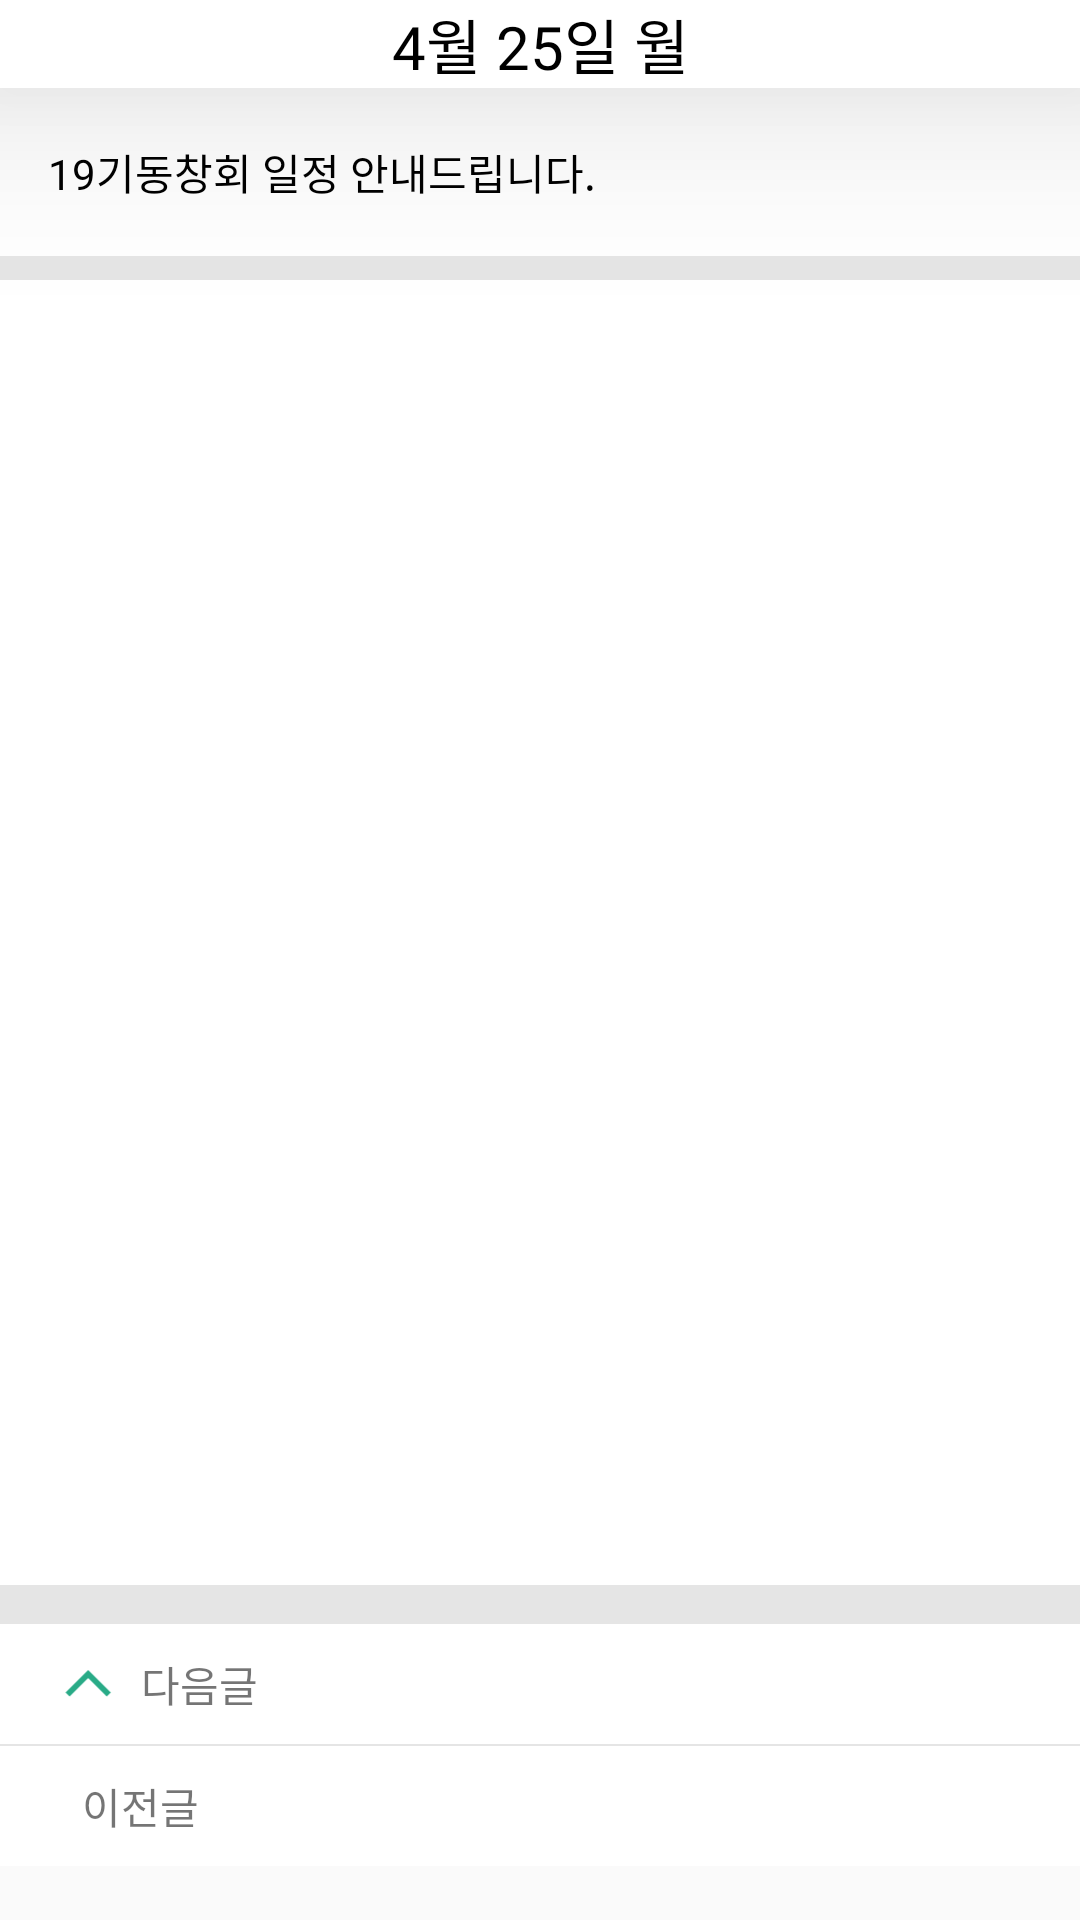

Screen size 1080x1920. Icon name, then its center in pixels as (x=x, y=y):
arrow up: (x=88, y=1683)
